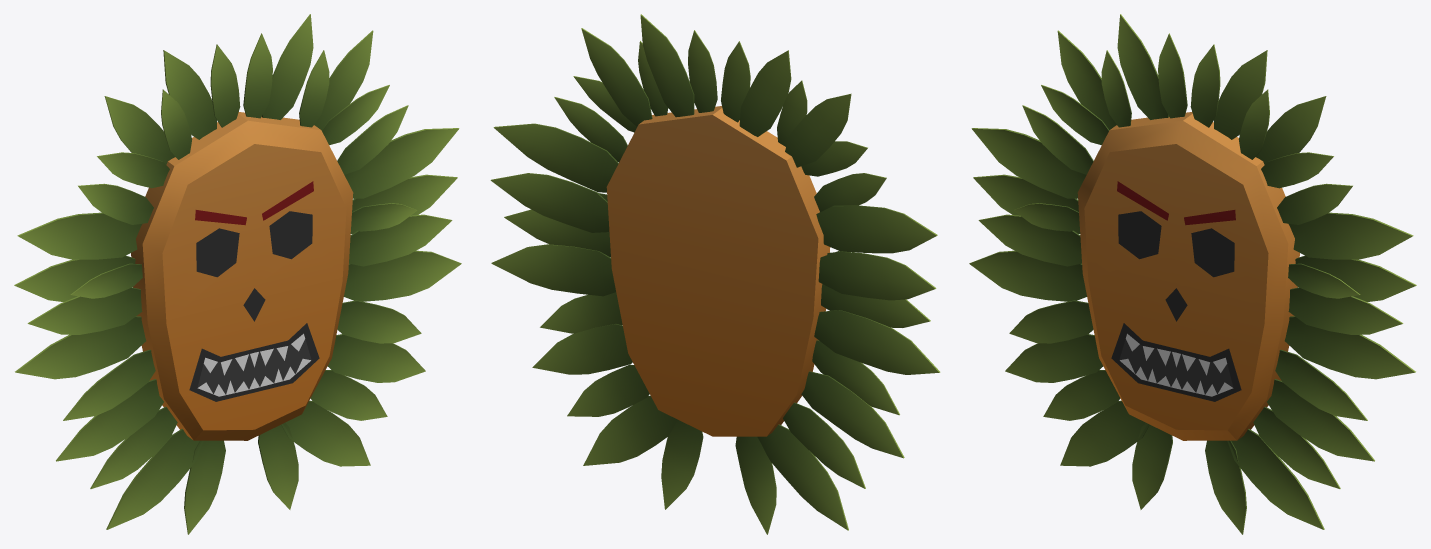
File: Mask_01.fbx
3 views of the same model, side by side, from view 1: azimuth 30°, elevation 25°; view 2: azimuth 150°, elevation 25°; view 3: azimuth 330°, elevation 25° (orthographic).
Parts seen in each view (by area): view 1: Mask_01_LOD0; view 2: Mask_01_LOD0; view 3: Mask_01_LOD0.
Part boxes in pixels (<box>): Mask_01_LOD0: <box>14,14,461,534</box>; Mask_01_LOD0: <box>490,14,940,534</box>; Mask_01_LOD0: <box>969,14,1416,534</box>.
Size of what is drawn, in the model's own units: 0.4394 by 0.4599 by 0.0331.
